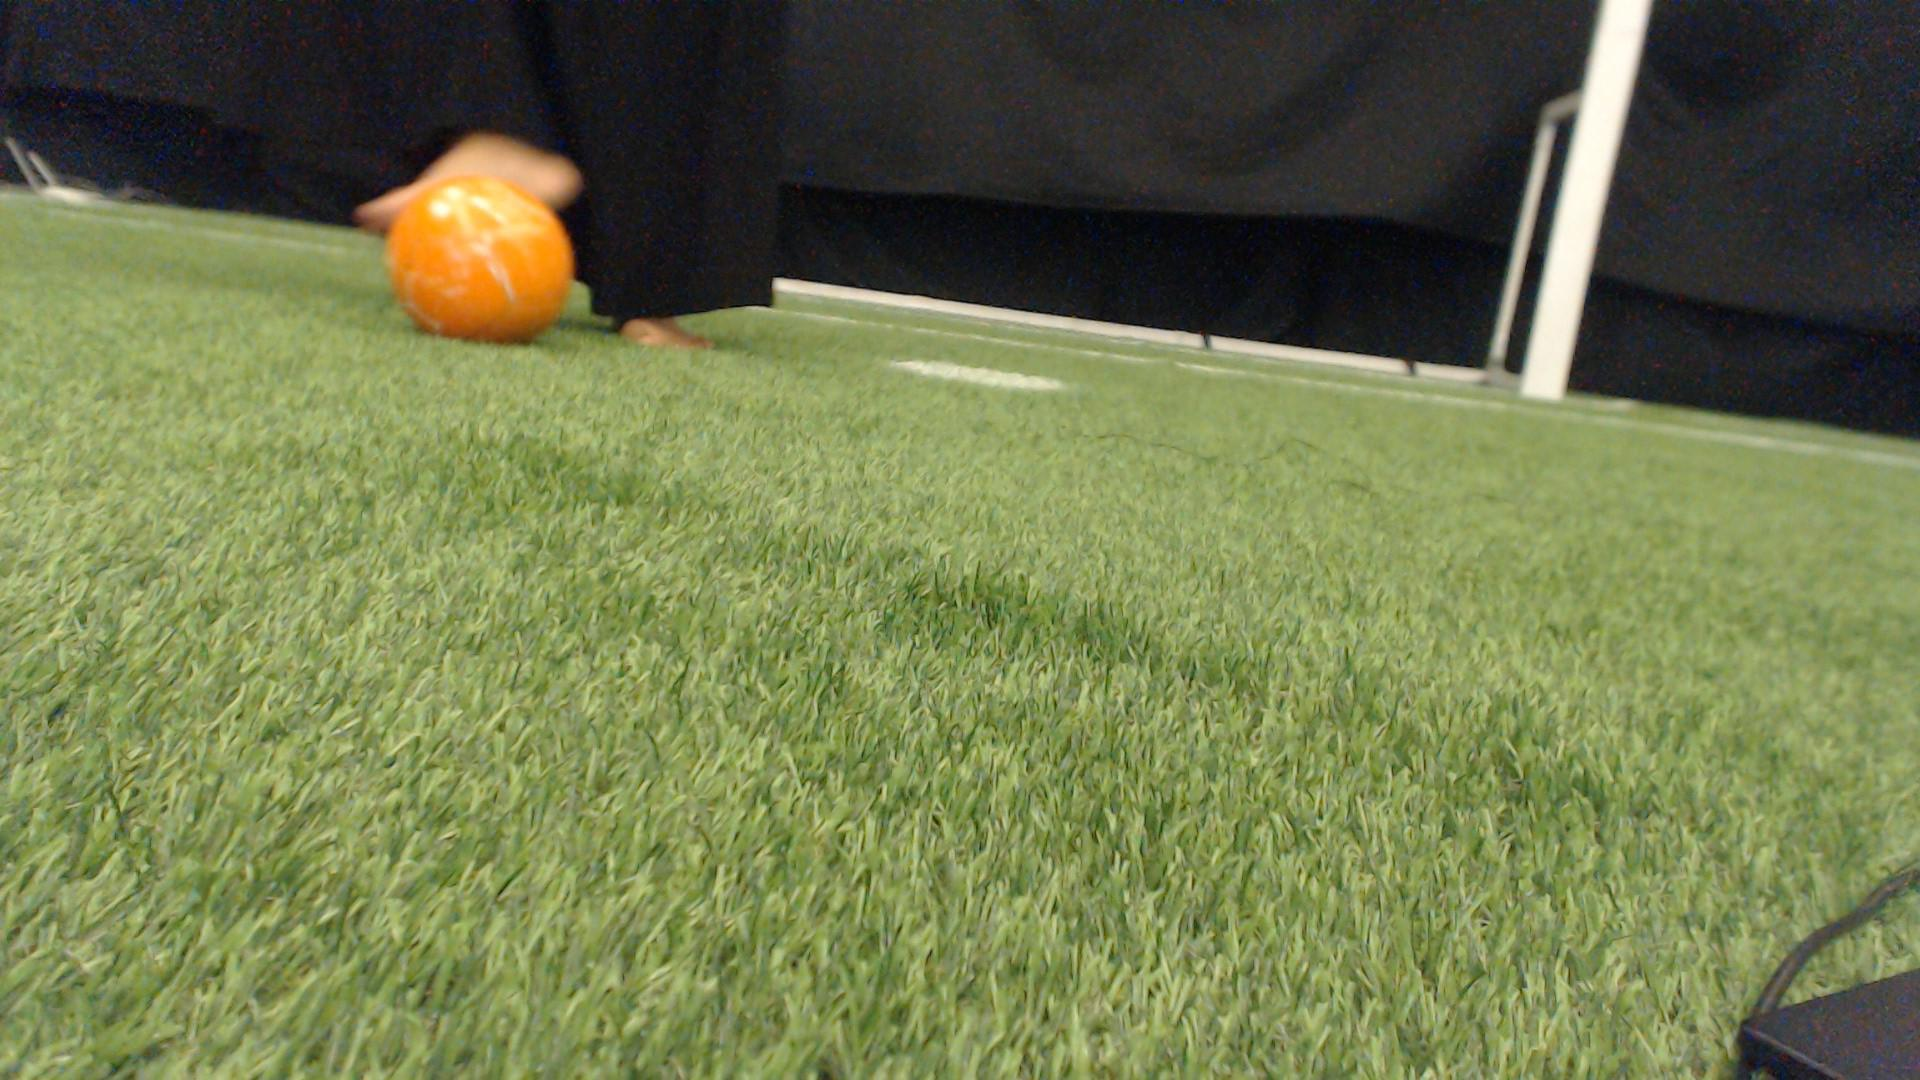bola: (364, 166, 599, 347)
